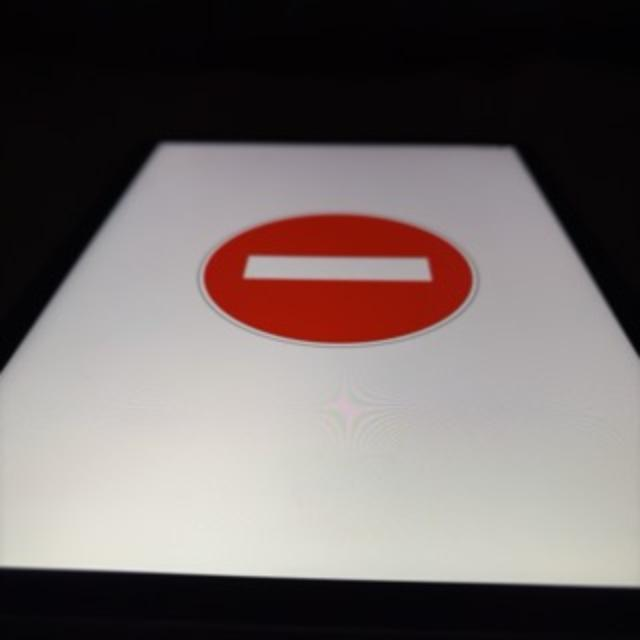NO ENTRY: (202, 214, 474, 342)
